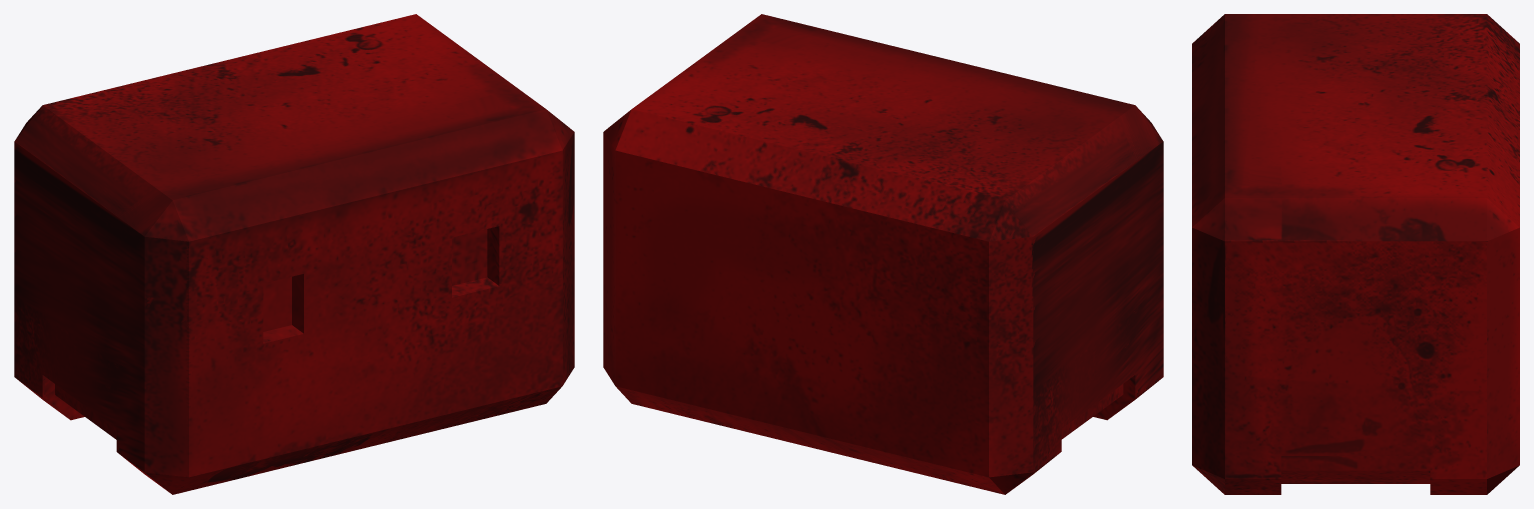
File: Red Box.fbx
3 renders of one model, left to right at view 1: azimuth 30°, elevation 25°; view 2: azimuth 150°, elevation 25°; view 3: azimuth 270°, elevation 25°, orthographic.
Parts seen in each view (by area): view 1: pCube2; view 2: pCube2; view 3: pCube2.
Boxes of the visible parts, bbox=[...] form: pCube2: bbox=[14, 14, 574, 494]; pCube2: bbox=[603, 14, 1163, 494]; pCube2: bbox=[1192, 14, 1519, 494].
Size of the model in its own units: 8.63 by 5.65 by 5.65.
Materials: 1 (1 with a texture image).
